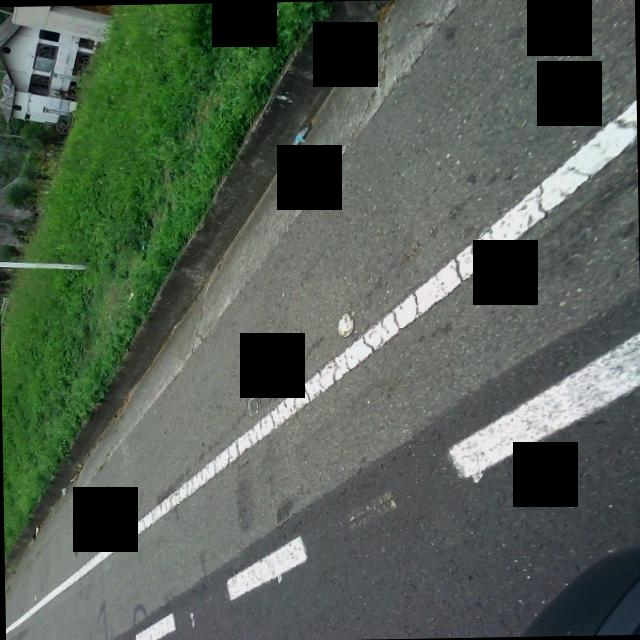DITCH: (0, 0, 640, 640), (47, 0, 640, 640)
